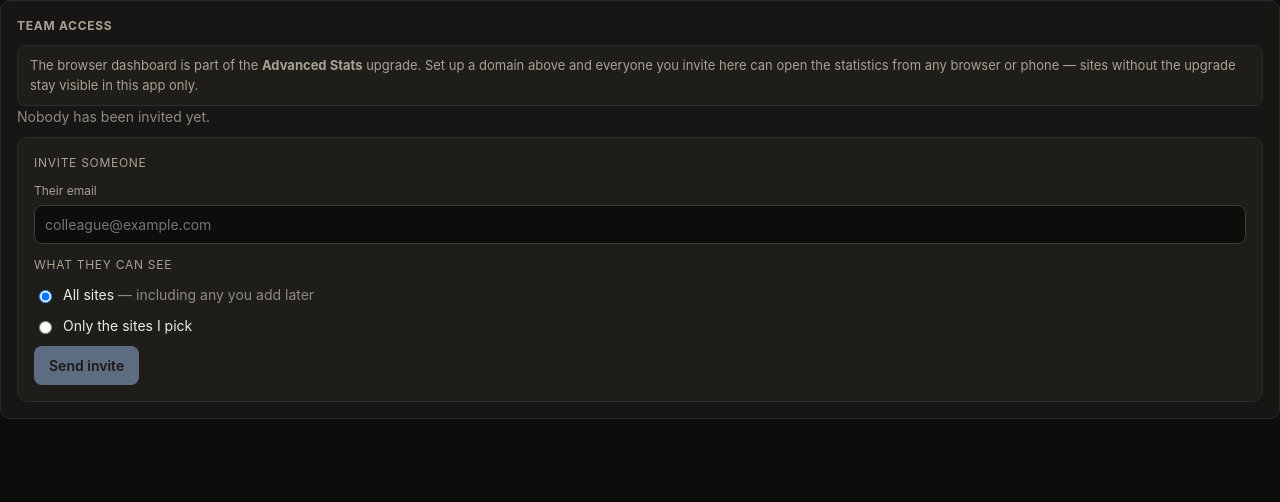
Test case: the team list › with every site online, the picker stays clean — no rule lecture when it can't confuse
This screenshot has width=1280, height=502.
Type "x@x.com" into the field with placeholder "colleague@example.com". click: (640, 224)
box: [34,205,1246,244]
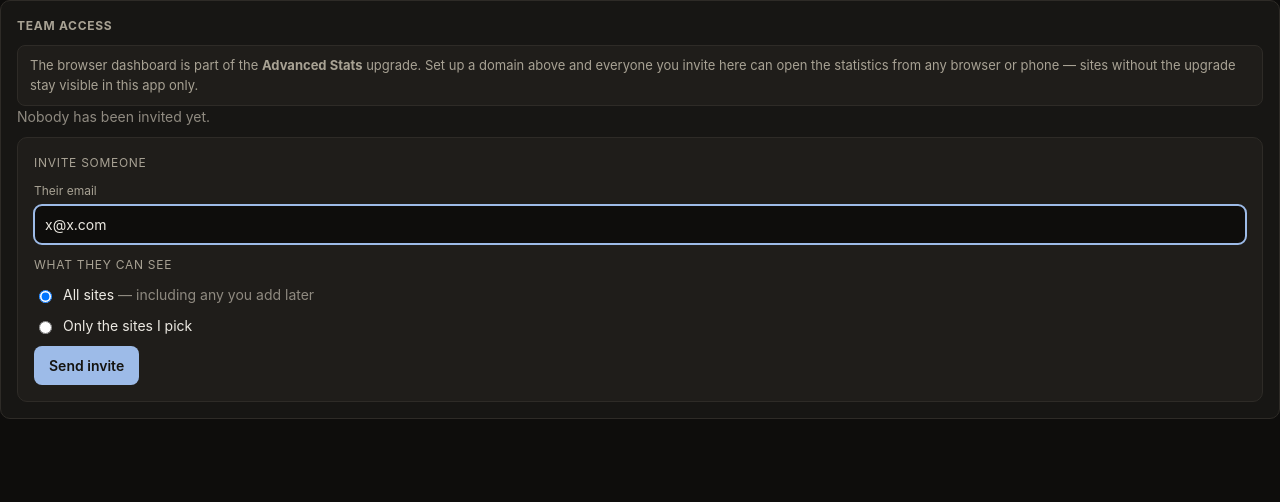
Click the radio button labelled "Only the sites I pick". click: (46, 327)
box: [39,320,52,334]
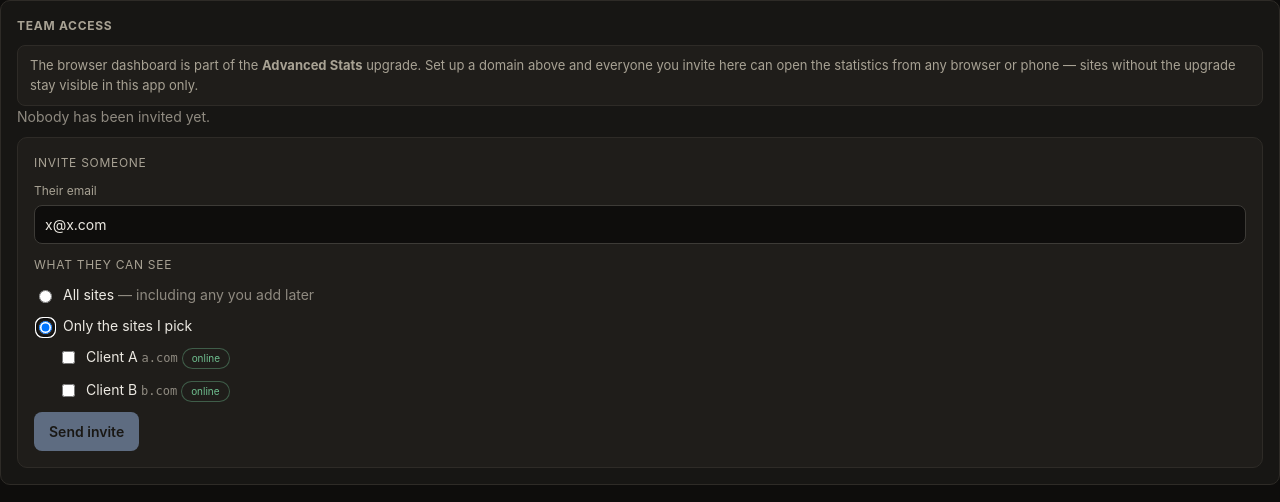
Expected: the text "online" is shown 2 times, [182,348,230,369]; [181,381,230,402]
